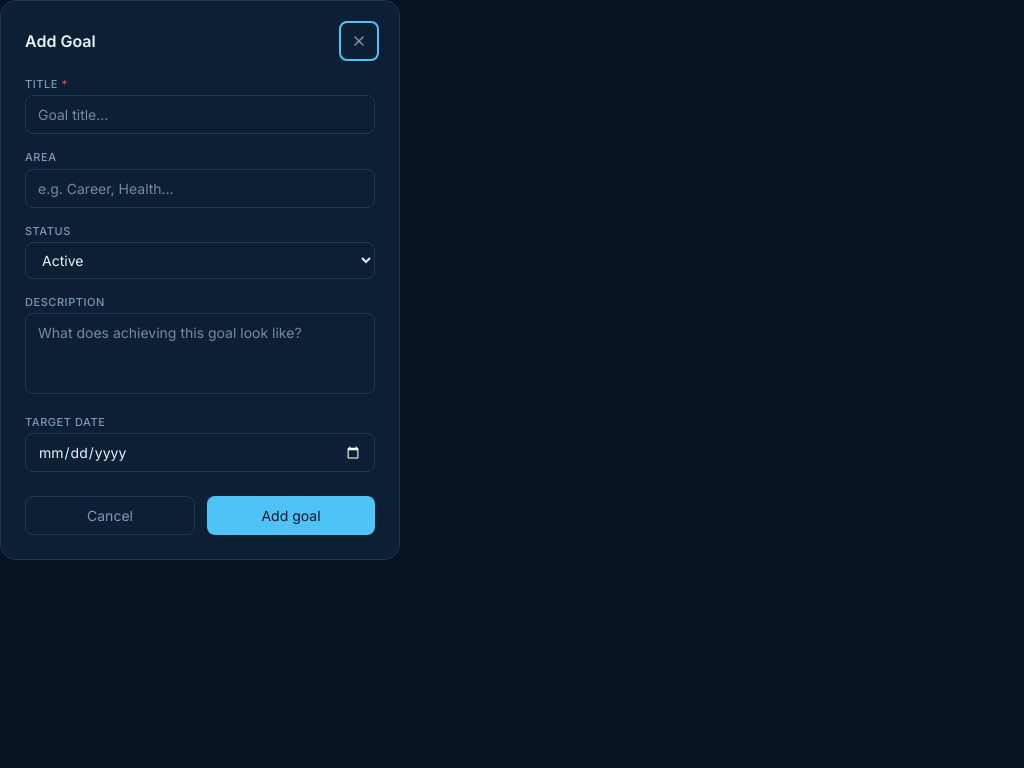
Test: GoalModal — Create mode › clears field error once the user fixes the value
Click the button "Add goal" at coordinates (291, 516), box x1=207 y1=496 x2=375 y2=536
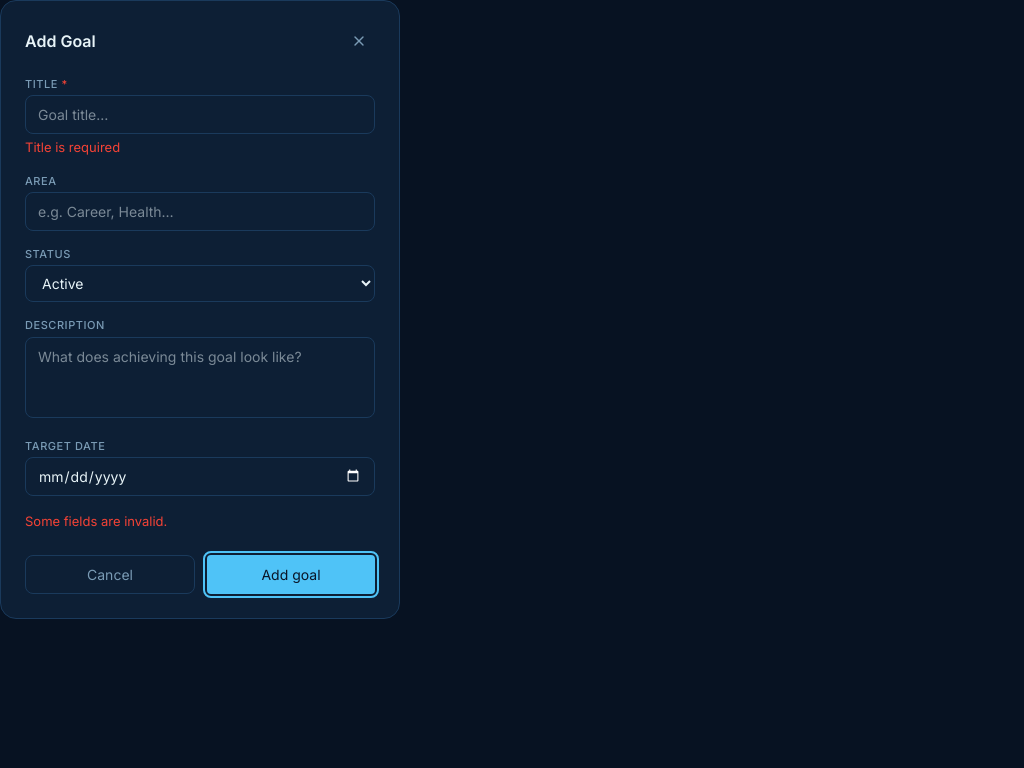
Now the text "Title is required" is shown, box x1=25 y1=139 x2=120 y2=155
Type "New goal" into the field labelled "Title *" at coordinates (200, 115), box x1=25 y1=95 x2=375 y2=134
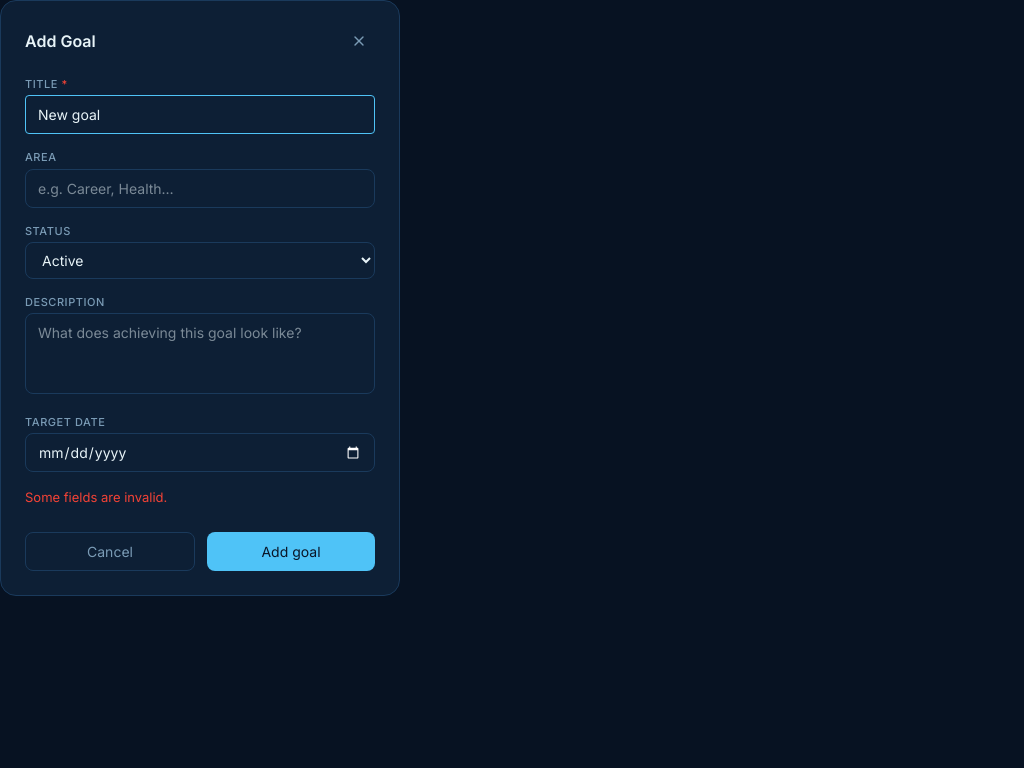
Now the text "Title is required" is gone
